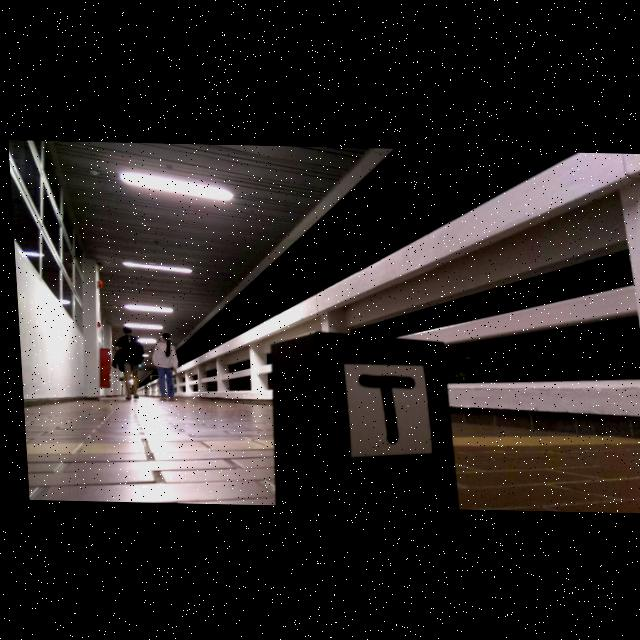T: (354, 373, 411, 442)
